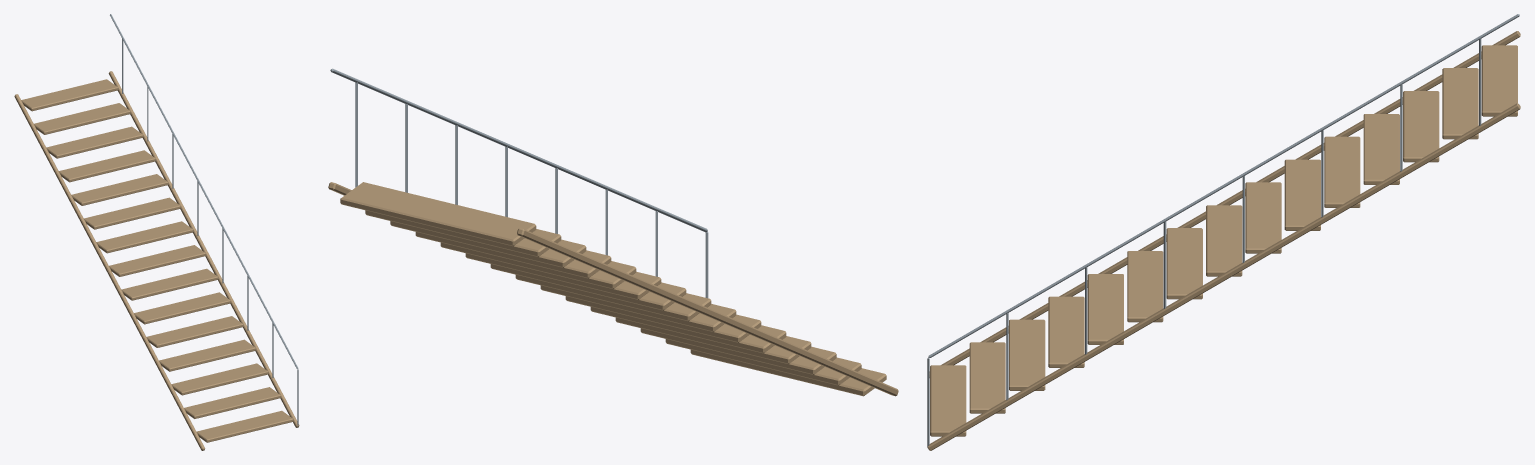
File: stairs_fit.glb
3 views of the same model, side by side, from view 1: azimuth 30°, elevation 25°; view 2: azimuth 150°, elevation 25°; view 3: azimuth 270°, elevation 25° (orthographic). The views are drawn at different scales.
Parts seen in each view (by area): view 1: stairs_fit; view 2: stairs_fit; view 3: stairs_fit.
Part boxes in pixels (x1=…): stairs_fit: x1=14, y1=14, x2=299, y2=450; stairs_fit: x1=328, y1=68, x2=898, y2=396; stairs_fit: x1=927, y1=14, x2=1520, y2=450.
Bounding box in the file's own units: 1.5 × 4.07 × 5.02.
